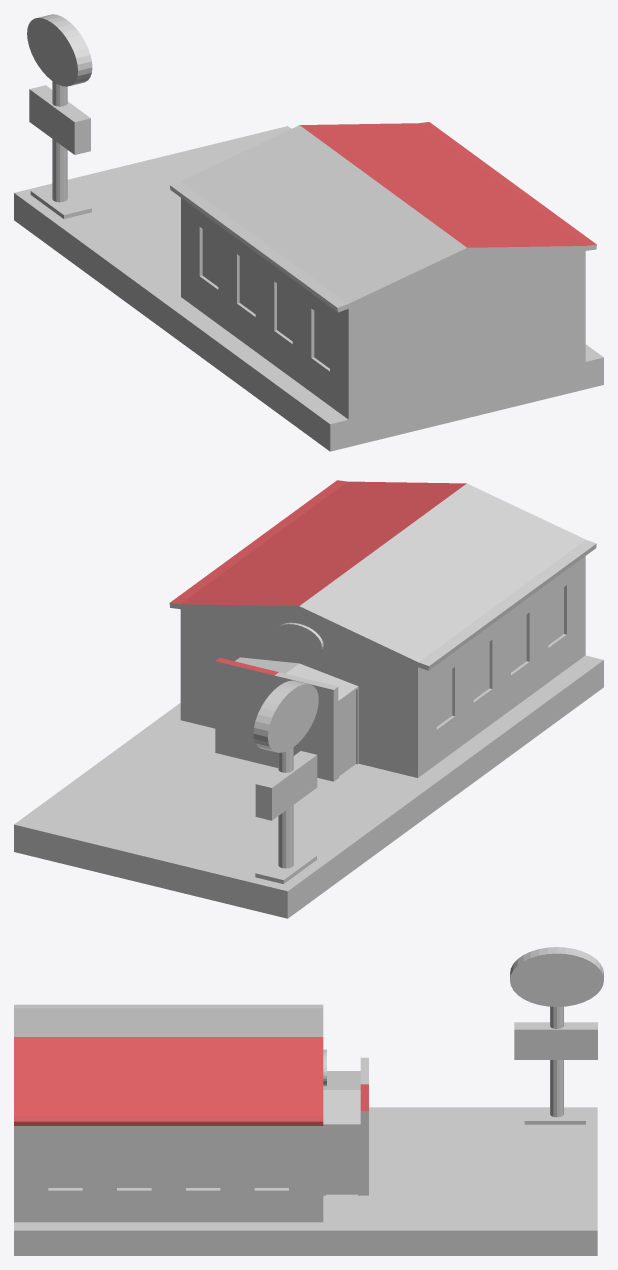
The model's file is famiress.fbx.
3 renders of one model, top to bottom at view 1: azimuth 30°, elevation 25°; view 2: azimuth 150°, elevation 25°; view 3: azimuth 270°, elevation 25°, orthographic. The views are drawn at different scales.
Visible parts, largest first — view 1: Cube; view 2: Cube; view 3: Cube.
Boxes of the visible parts, <box> form: Cube: <box>14,14,603,451</box>; Cube: <box>14,480,603,918</box>; Cube: <box>14,947,603,1255</box>.
Size of the model in its own units: 5105 by 3725 by 10322.
